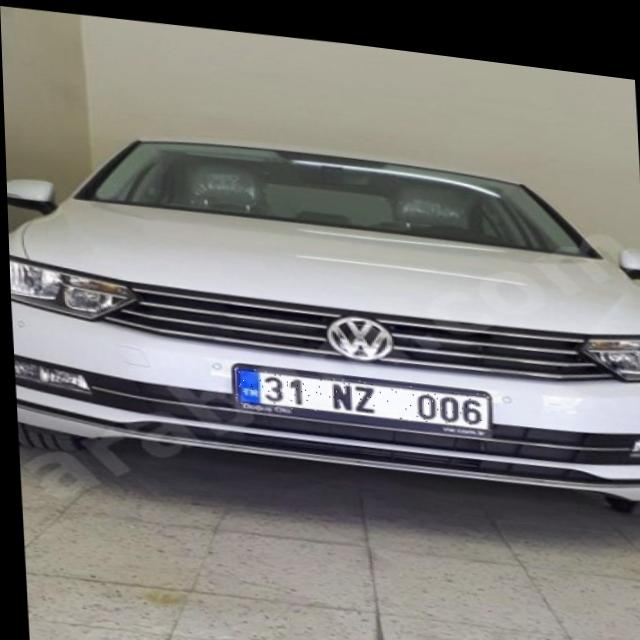license_plate: (231, 356, 487, 422)
